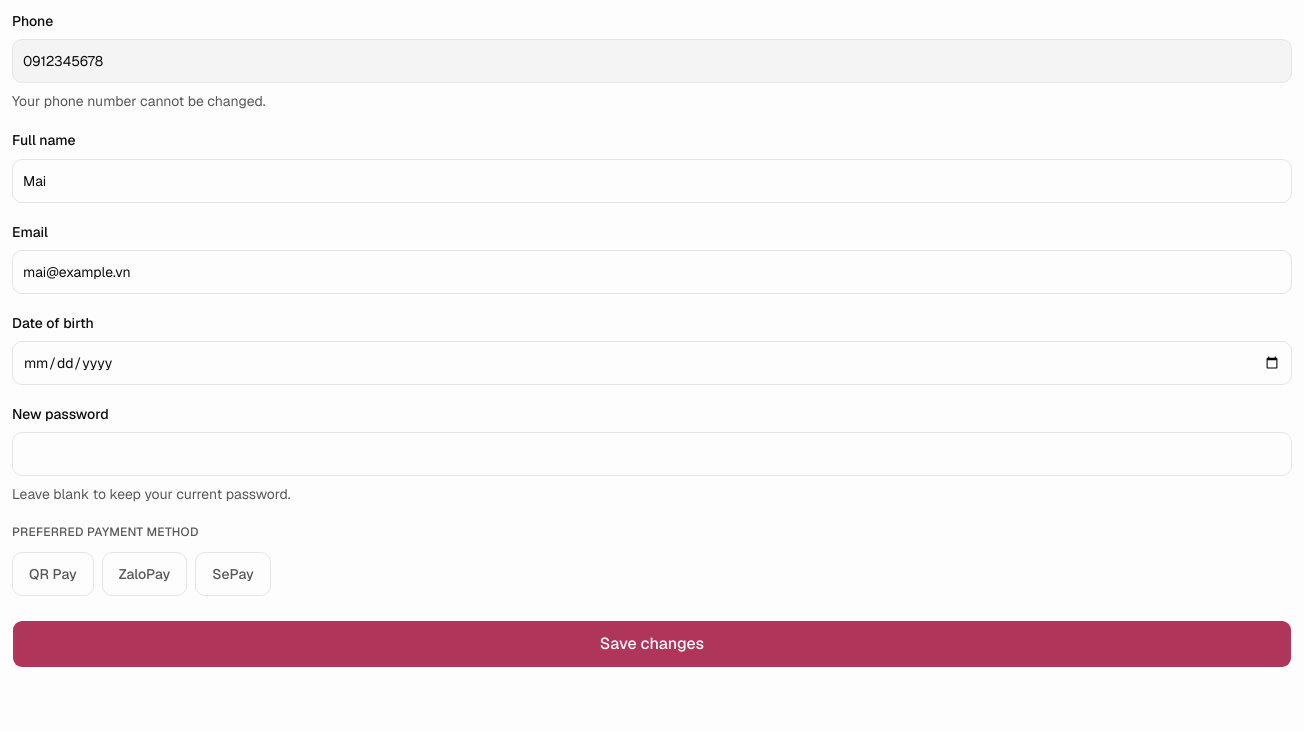
AccountForm › surfaces a server error
The image size is (1304, 732).
Click the button "Save changes": (652, 644) [12,620,1292,668]
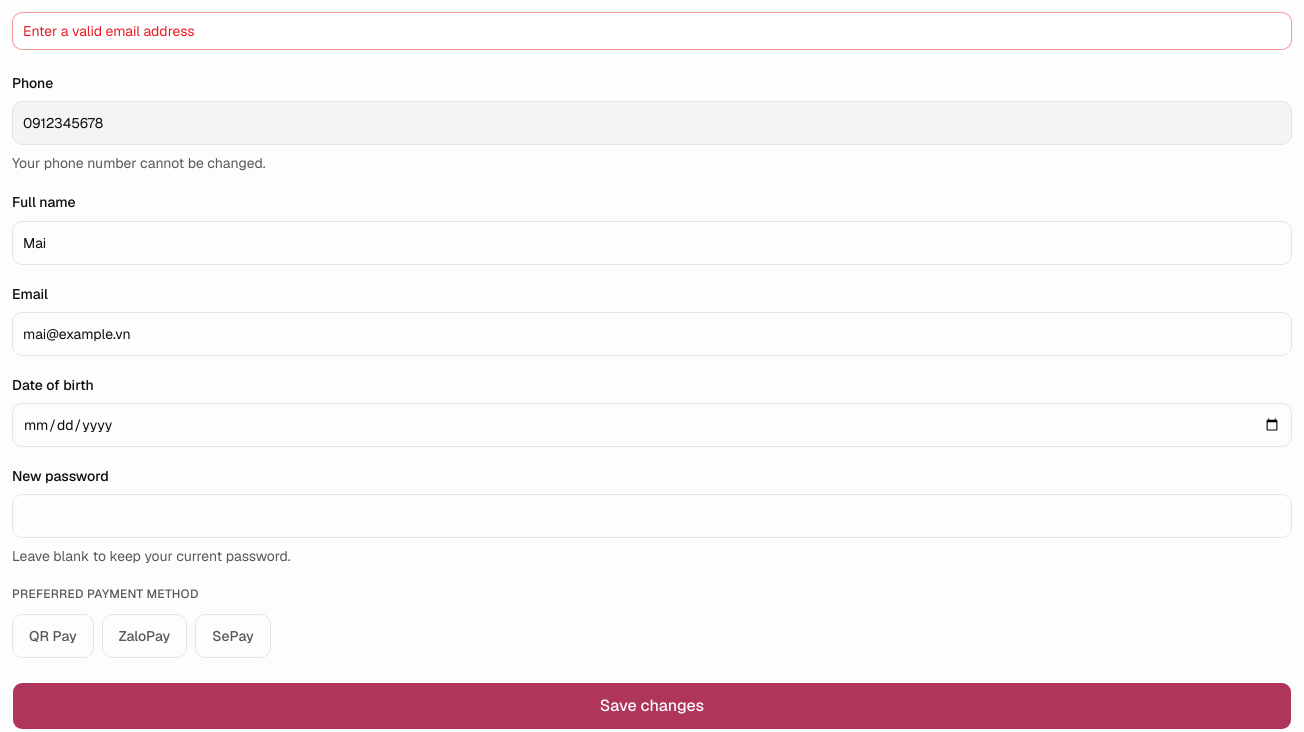
Check: the text "Enter a valid email address" is shown, box [23,22,195,40]
